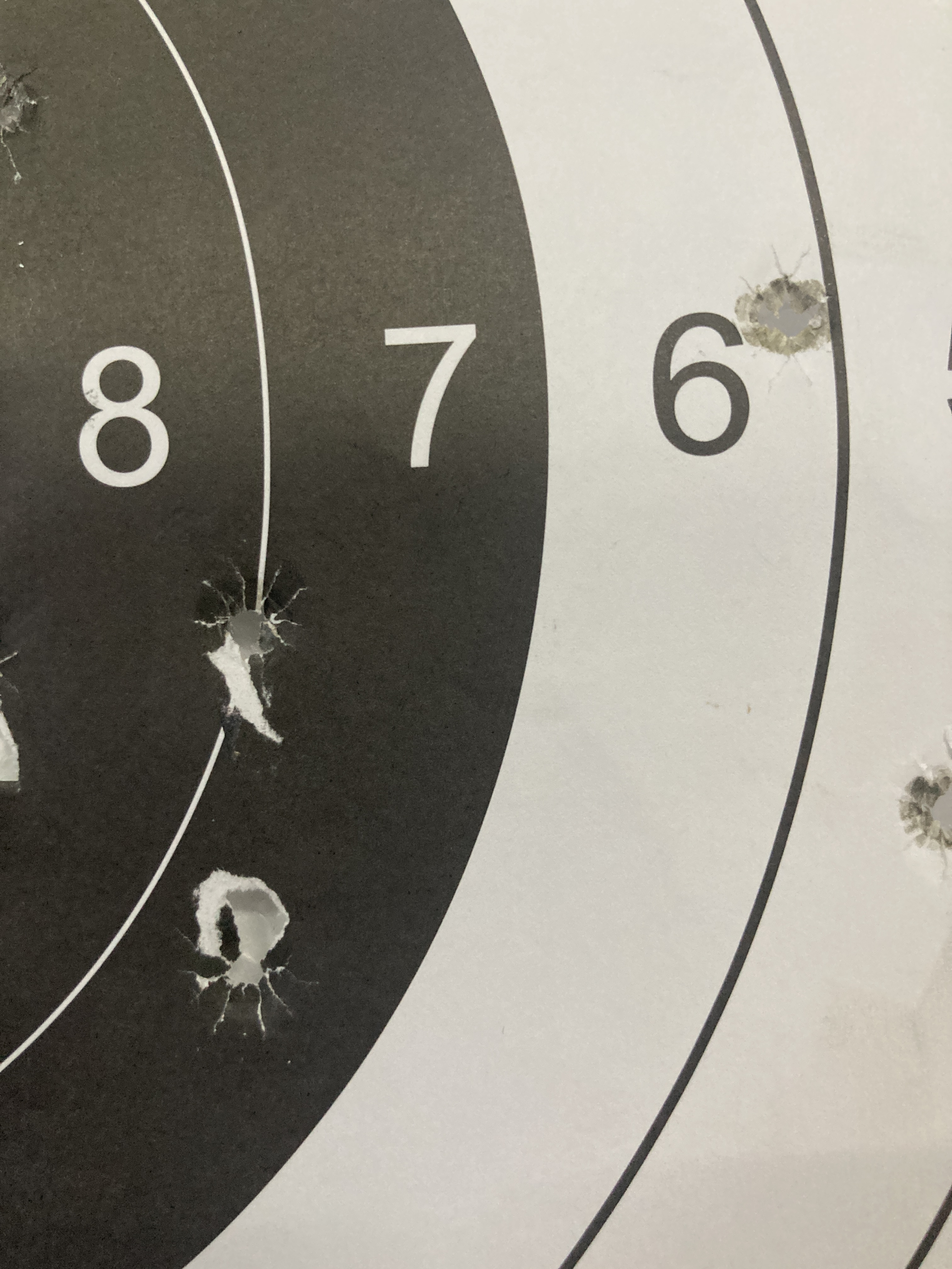hole: (164, 853, 343, 1023), (183, 563, 327, 718), (721, 233, 841, 400), (878, 714, 952, 872)
